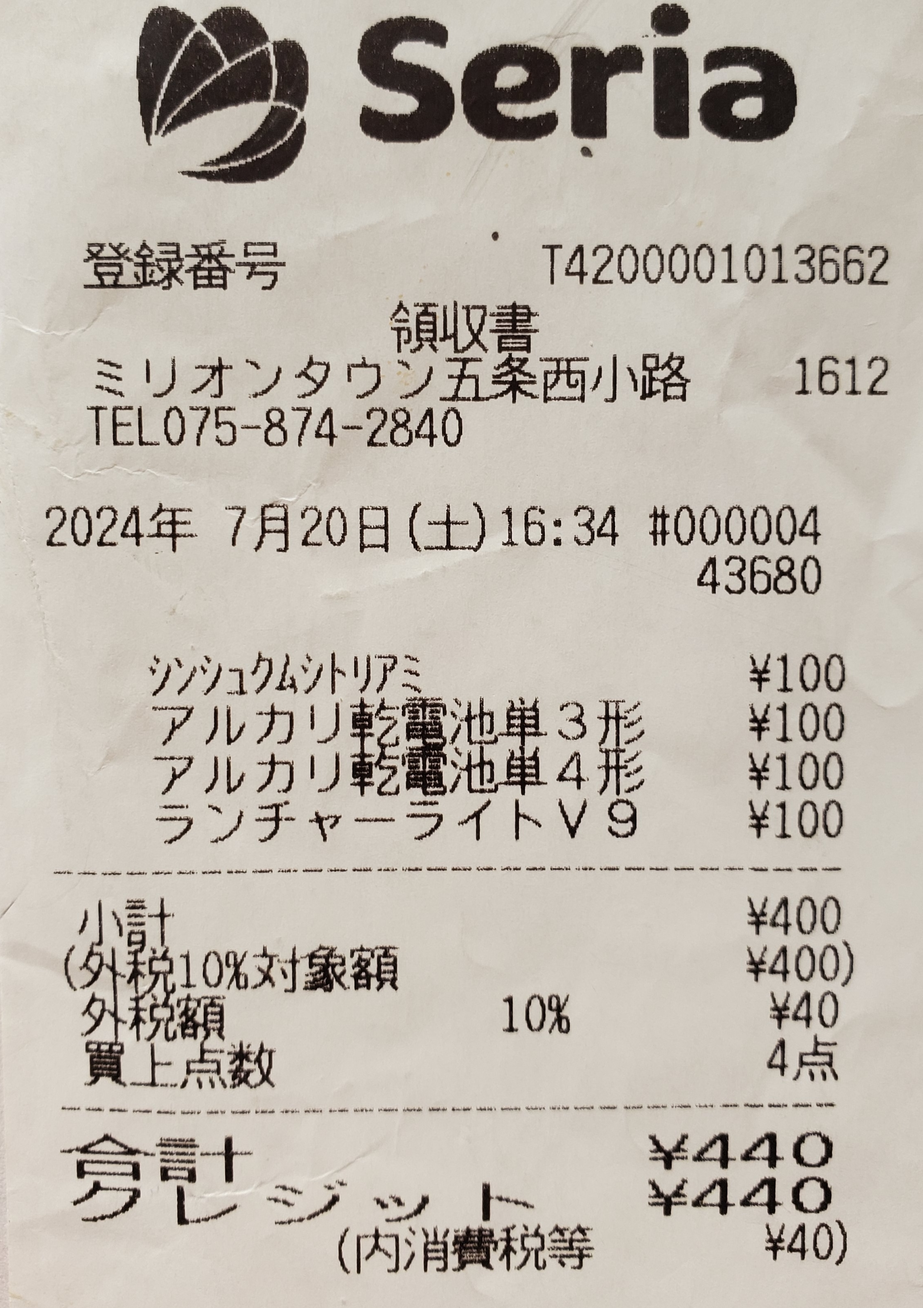Date: (37, 489, 401, 565)
Shopname: (339, 3, 824, 156)
Telnum: (152, 397, 473, 464)
Totalpay: (52, 1119, 854, 1181)
